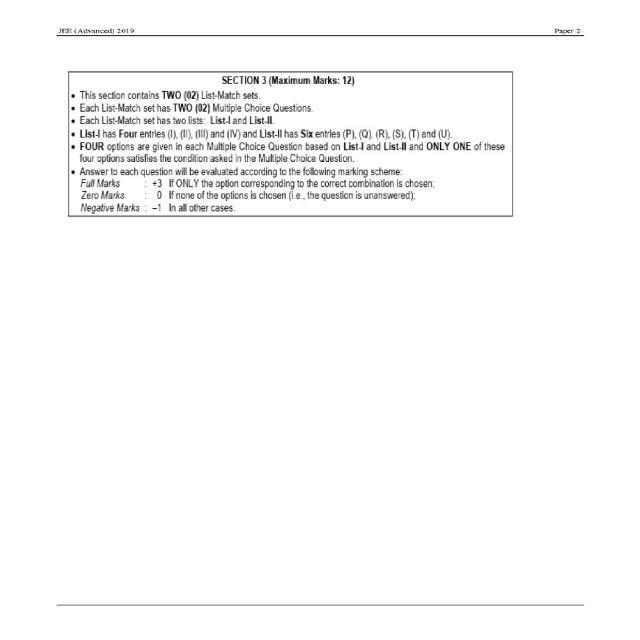Instruction: (47, 44, 595, 250)
Question_Paper_Area: (47, 44, 595, 575)
